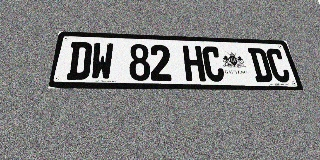2: (150, 44, 172, 81)
8: (129, 44, 150, 81)
C: (265, 48, 292, 82), (201, 46, 226, 82)
D: (66, 42, 93, 80), (247, 48, 274, 82)
H: (182, 45, 206, 81)
W: (90, 42, 114, 80)
